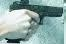gun: (1, 1, 66, 44)
